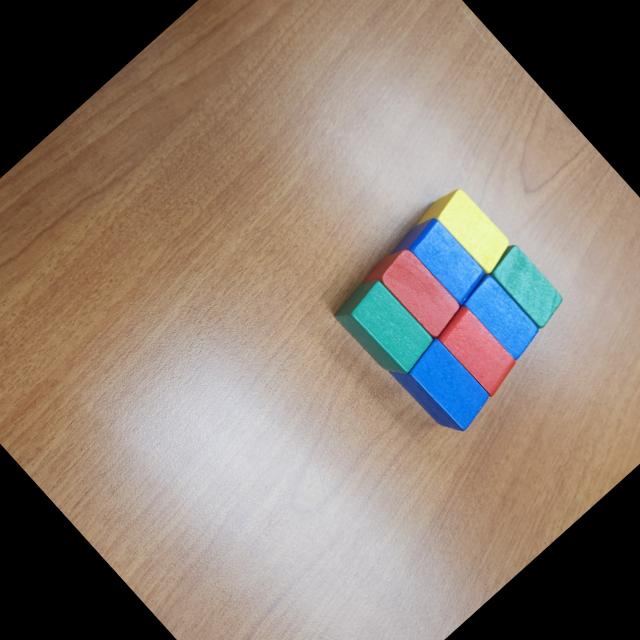blue: (388, 331, 496, 442), (385, 210, 492, 320), (458, 270, 546, 362)
green: (328, 267, 440, 383), (482, 238, 570, 330)
red: (359, 240, 465, 350), (432, 302, 524, 398)
yellow: (414, 180, 516, 284)
